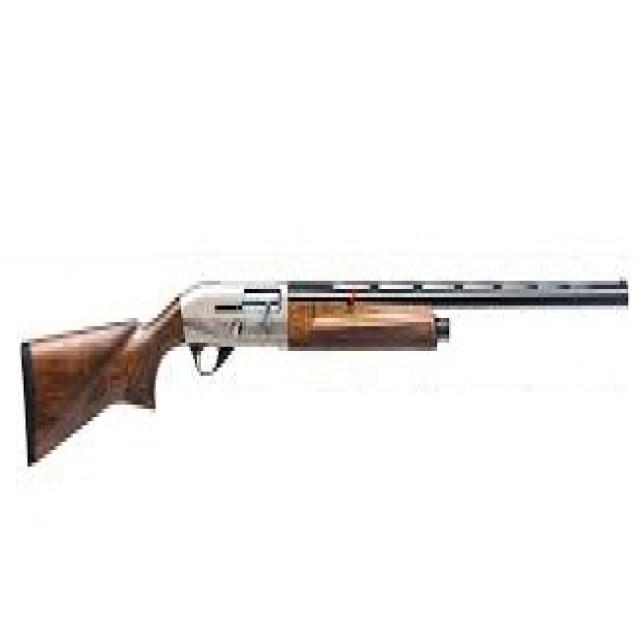rifle: (17, 256, 631, 477)
